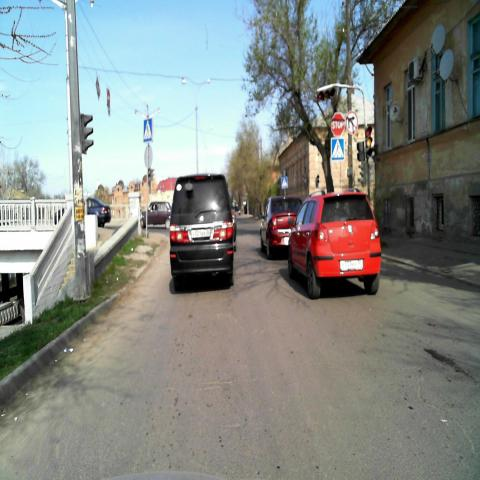3_18: (346, 111, 357, 133)
